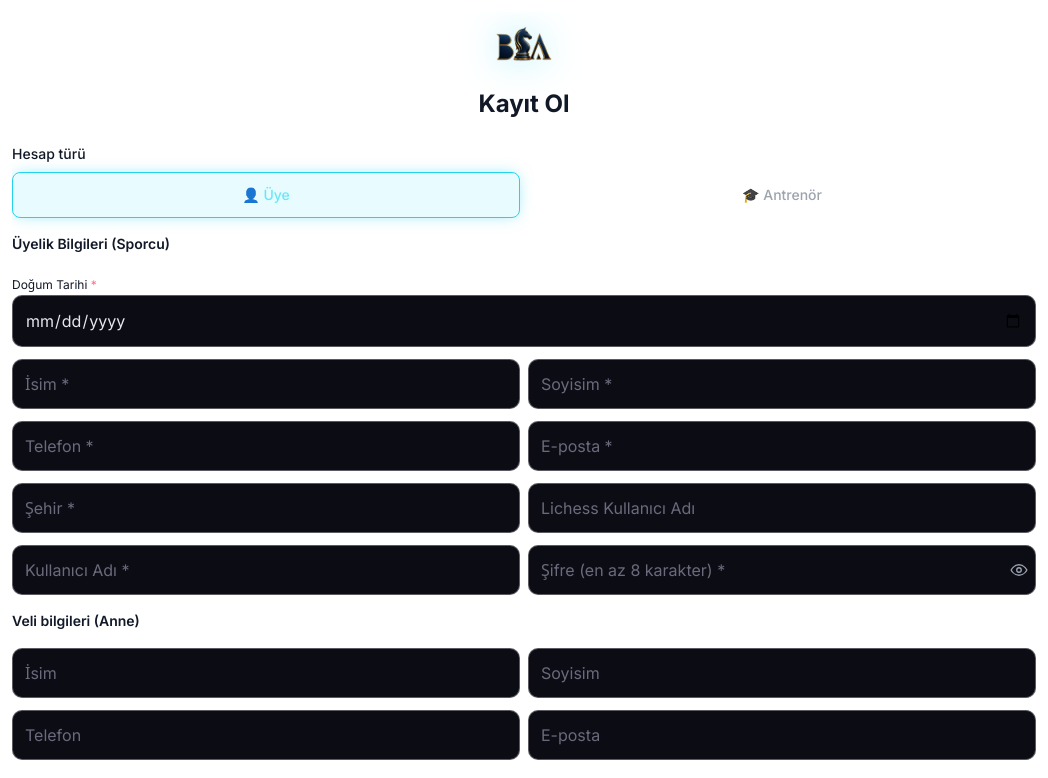
Test: Kayıt Ol — Üye/Antrenör düzeni (madde 2026-09-09) › varsayılan olarak "Üye" seçili, Antrenör'e geçilince veli bölümü kaybolur
Expected: the text "Veli bilgileri (Anne)" is shown, [12,611,1036,636]
Click the radio button "🎓 Antrenör" at (782, 195), box [528,172,1036,218]
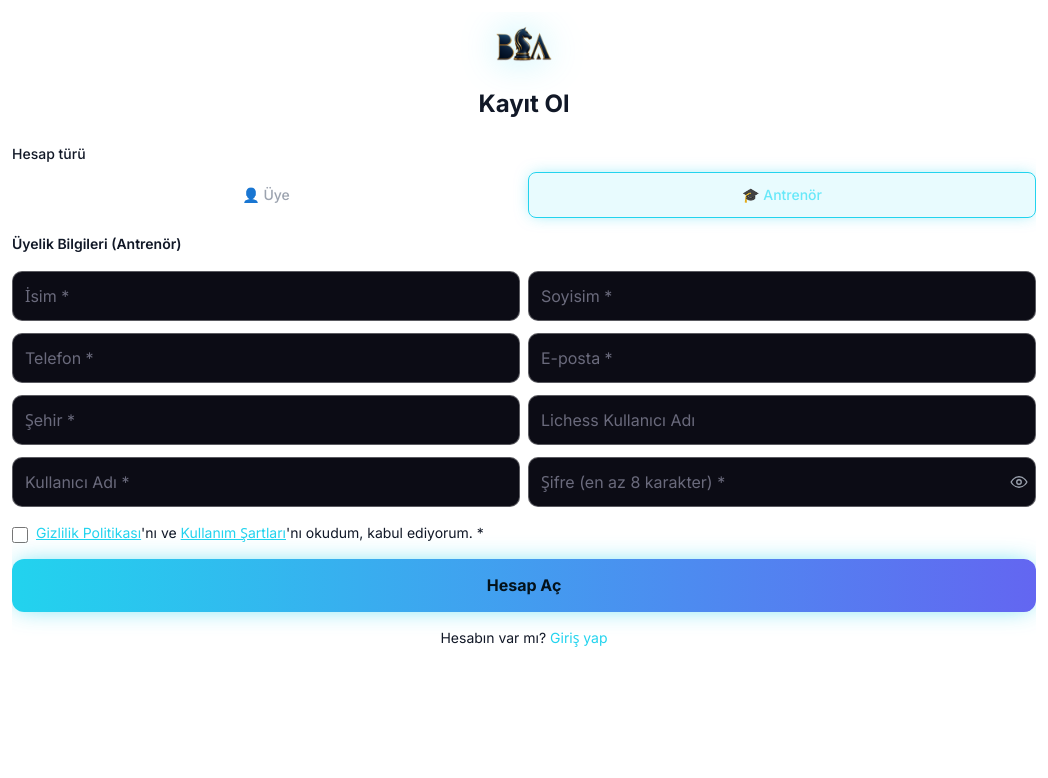
Expected: the text "Veli bilgileri (Baba)" is not shown
Expected: the text "Veli bilgileri (Anne)" is gone
Expected: the text "Üyelik Bilgileri (Antrenör)" is shown, [12,234,1036,259]
